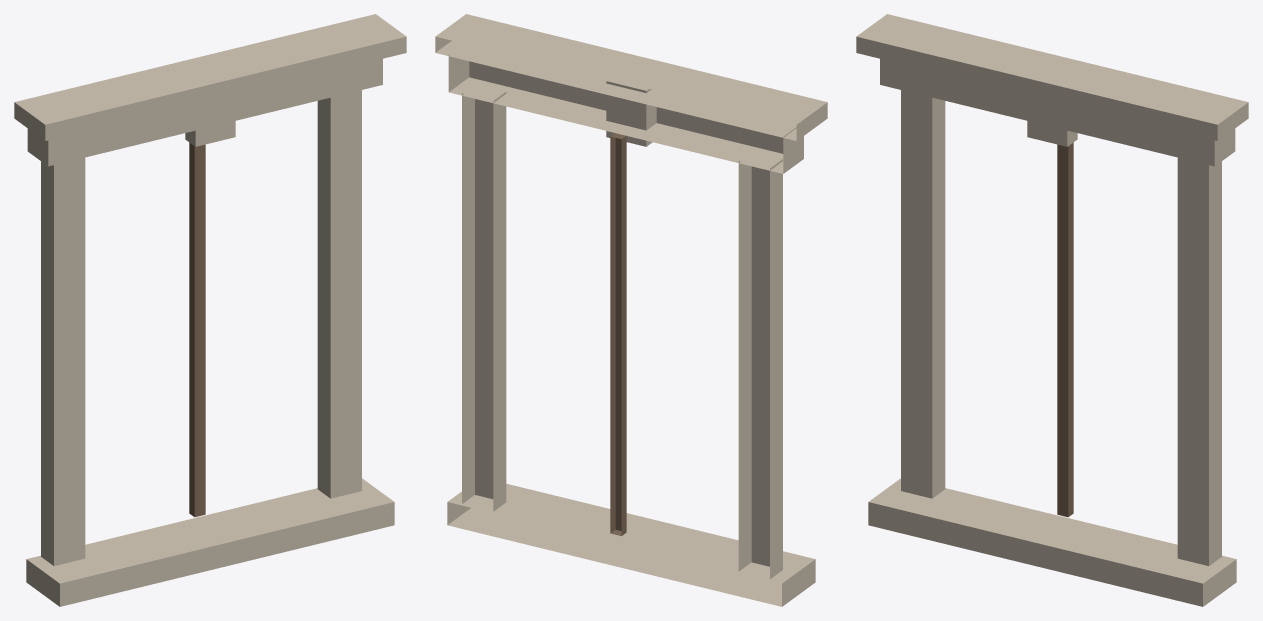
File: WindowFrame.glb
3 views of the same model, side by side, from view 1: azimuth 30°, elevation 25°; view 2: azimuth 150°, elevation 25°; view 3: azimuth 330°, elevation 25° (orthographic).
Visible parts, largest first — view 1: WindowFrame_cube.011, WindowFrame_cube.012, WindowFrame_cube.013, WindowFrame_cube.015, WindowFrame_cube.014, WindowFrame_cube.017, WindowFrame_cube.016; view 2: WindowFrame_cube.013, WindowFrame_cube.012, WindowFrame_cube.011, WindowFrame_cube.014, WindowFrame_cube.015, WindowFrame_cube.017, WindowFrame_cube.016; view 3: WindowFrame_cube.011, WindowFrame_cube.013, WindowFrame_cube.012, WindowFrame_cube.015, WindowFrame_cube.014, WindowFrame_cube.017, WindowFrame_cube.016.
Boxes of the visible parts, left/top/right/bottom form: WindowFrame_cube.011: left=26, top=478, right=394, bottom=606; WindowFrame_cube.012: left=41, top=157, right=85, bottom=565; WindowFrame_cube.013: left=317, top=90, right=361, bottom=498; WindowFrame_cube.015: left=14, top=14, right=406, bottom=140; WindowFrame_cube.014: left=27, top=59, right=382, bottom=166; WindowFrame_cube.017: left=189, top=142, right=205, bottom=517; WindowFrame_cube.016: left=185, top=95, right=235, bottom=146; WindowFrame_cube.013: left=462, top=84, right=506, bottom=511; WindowFrame_cube.012: left=738, top=151, right=782, bottom=579; WindowFrame_cube.011: left=447, top=483, right=815, bottom=606; WindowFrame_cube.014: left=448, top=43, right=803, bottom=173; WindowFrame_cube.015: left=435, top=14, right=827, bottom=140; WindowFrame_cube.017: left=610, top=133, right=626, bottom=535; WindowFrame_cube.016: left=606, top=79, right=656, bottom=146; WindowFrame_cube.011: left=868, top=478, right=1236, bottom=606; WindowFrame_cube.013: left=1177, top=157, right=1221, bottom=565; WindowFrame_cube.012: left=901, top=90, right=945, bottom=498; WindowFrame_cube.015: left=856, top=14, right=1248, bottom=140; WindowFrame_cube.014: left=880, top=59, right=1235, bottom=166; WindowFrame_cube.017: left=1057, top=142, right=1073, bottom=517; WindowFrame_cube.016: left=1027, top=95, right=1077, bottom=146.
Size of the model in its own units: 1.62 by 2.07 by 0.26.
